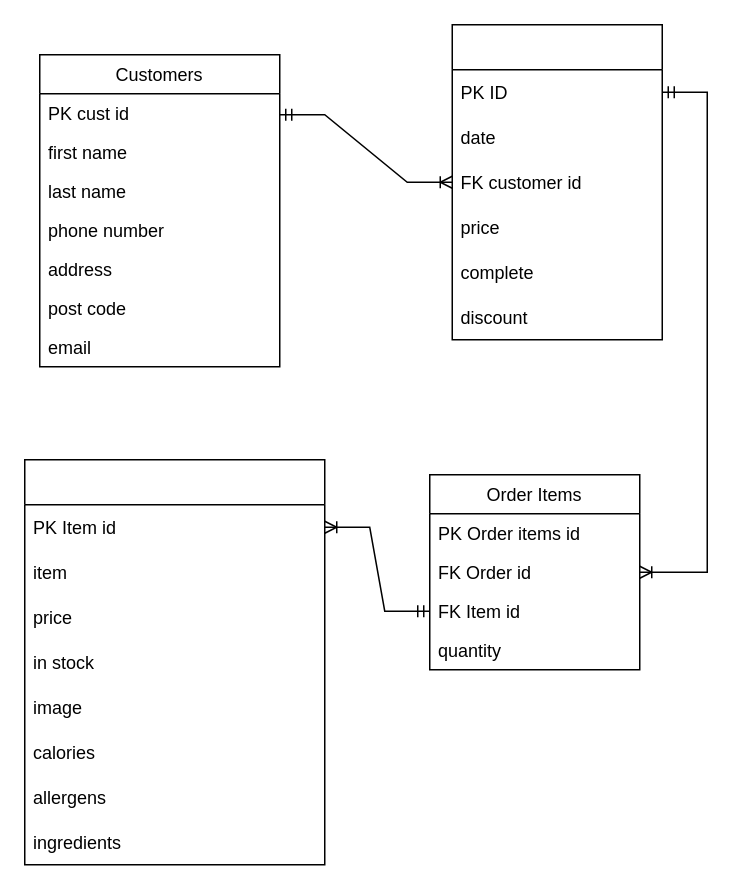
Some shapes in this 732 by 890 pixel diagram are drawn without their labels. Here are the shapes that lost their labels. From the top down, the box of each, then its label:
(451, 23, 662, 340): Orders
(23, 458, 325, 865): Menu
